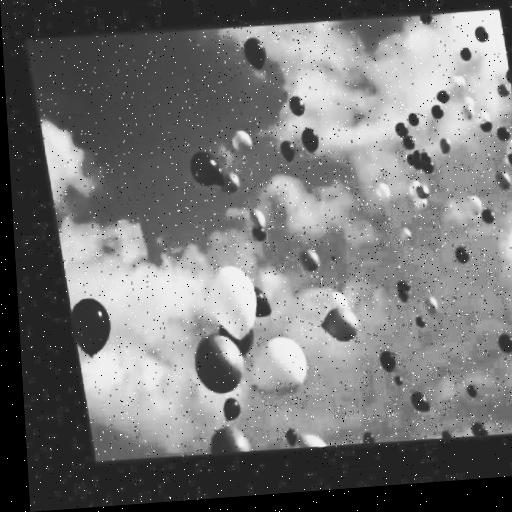balloon: (200, 266, 254, 341), (237, 335, 303, 396), (185, 334, 238, 394), (61, 296, 107, 358), (313, 309, 354, 342), (199, 424, 241, 456), (209, 323, 249, 356), (183, 151, 216, 186), (240, 36, 266, 69), (242, 286, 266, 318), (281, 431, 319, 450), (211, 396, 233, 419), (318, 291, 342, 312), (228, 131, 250, 152), (294, 249, 314, 272), (297, 130, 316, 154), (403, 393, 422, 413), (243, 209, 261, 228), (489, 335, 509, 352), (287, 95, 302, 117), (278, 140, 292, 162), (373, 350, 387, 372), (416, 297, 433, 315), (461, 422, 479, 438), (369, 182, 385, 199), (461, 194, 477, 211), (220, 175, 235, 192), (388, 276, 405, 291), (412, 182, 426, 200), (248, 228, 264, 243), (449, 246, 463, 262), (473, 24, 486, 41), (494, 172, 507, 189), (209, 169, 221, 187), (274, 427, 286, 445), (392, 120, 404, 137), (349, 430, 363, 444), (449, 75, 463, 89), (409, 195, 423, 209), (455, 386, 471, 398), (404, 181, 416, 197), (433, 89, 448, 101), (428, 428, 442, 440), (478, 211, 490, 225), (436, 140, 448, 154), (406, 113, 417, 127), (394, 227, 406, 239), (464, 209, 475, 222), (416, 151, 429, 162), (410, 158, 421, 171), (460, 105, 470, 119), (458, 47, 469, 59), (477, 108, 488, 120), (476, 122, 490, 131), (400, 139, 414, 148), (462, 97, 473, 108), (429, 105, 440, 116), (503, 140, 512, 153), (494, 128, 505, 138), (419, 14, 431, 23), (391, 292, 402, 301), (495, 85, 506, 94), (503, 153, 512, 164), (386, 377, 396, 386), (404, 155, 412, 165), (409, 151, 418, 159), (503, 69, 508, 83), (423, 164, 430, 172), (408, 319, 417, 325), (325, 256, 331, 265)
